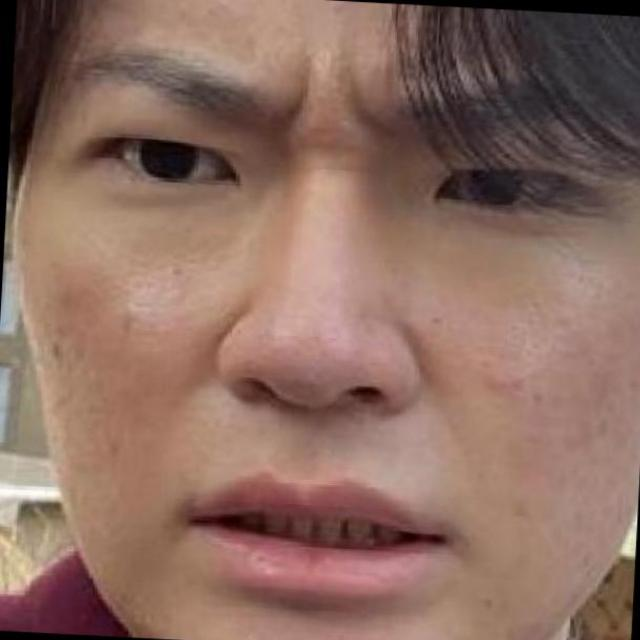Surprised: (55, 35, 616, 640)
